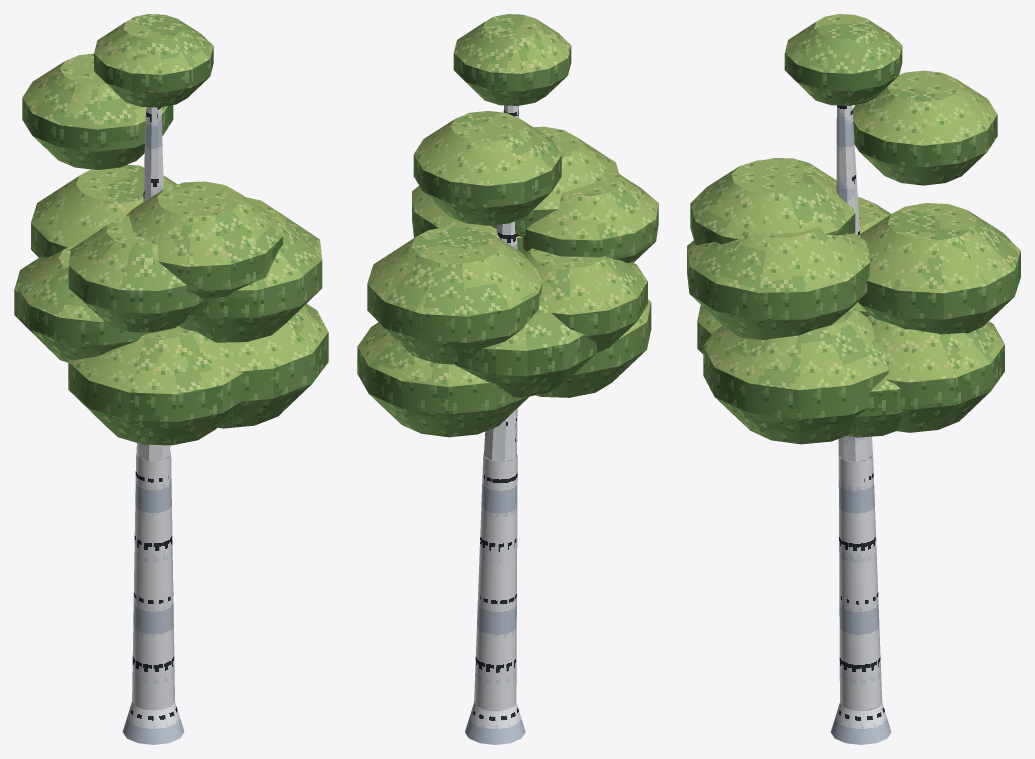
File: birch_7.glb
3 views of the same model, side by side, from view 1: azimuth 30°, elevation 25°; view 2: azimuth 150°, elevation 25°; view 3: azimuth 270°, elevation 25° (orthographic).
Visible parts, largest first — view 1: birch_8; view 2: birch_8; view 3: birch_8.
Boxes of the visible parts, bbox=[...] form: birch_8: bbox=[14, 14, 328, 744]; birch_8: bbox=[357, 14, 658, 744]; birch_8: bbox=[687, 14, 1020, 744].
Bounding box in the file's own units: 2.29 × 5.85 × 2.53.
Materials: 3 (3 with a texture image).
